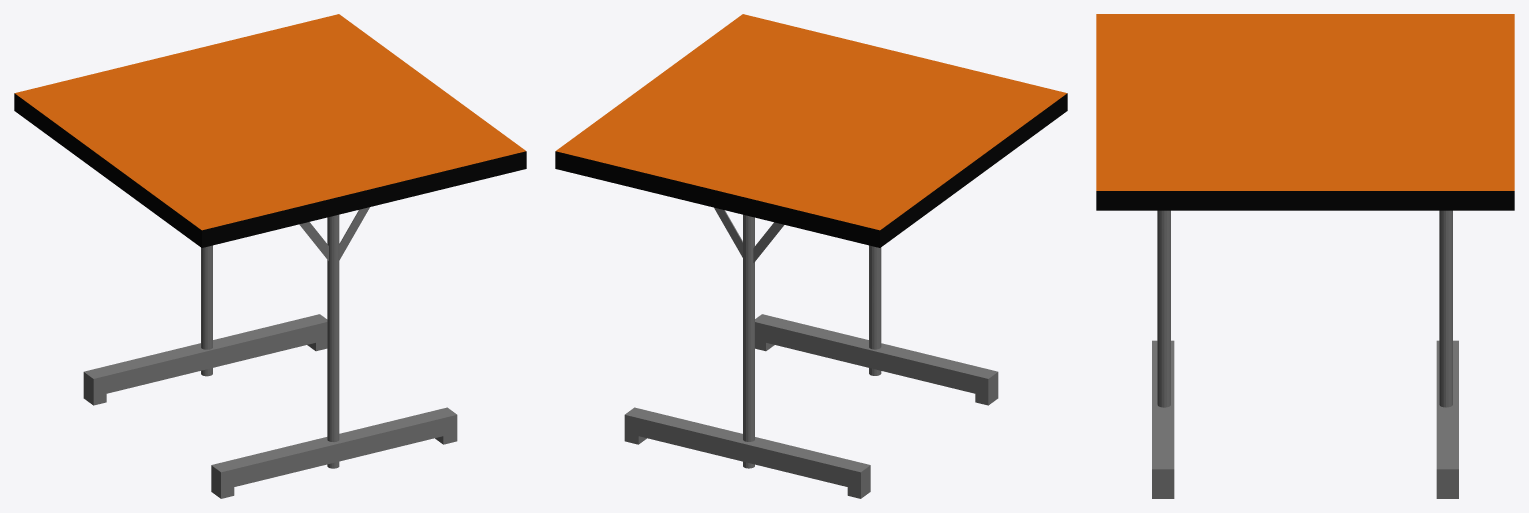
Rendered from TableMeshed 1.fbx.
3 views of the same model, side by side, from view 1: azimuth 30°, elevation 25°; view 2: azimuth 150°, elevation 25°; view 3: azimuth 270°, elevation 25° (orthographic). The views are drawn at different scales.
Parts seen in each view (by area): view 1: table, table_cell.005, leg, table_cell.001, leg.001, table_cell.002, leg.001_cell.004, leg.001_cell.010, leg.001_cell.023, leg.001_cell, table_cell; view 2: table, table_cell.005, table_cell.001, leg.001, table_cell.002, leg, leg_cell.038, leg.001_cell.004, leg_cell.007, table_cell, leg.001_cell, leg_cell.012 (+4 smaller); view 3: table, table_cell.005, table_cell.003, table_cell.001, table_cell.002, leg, leg.001, table_cell.004, leg.001_cell.016, leg.001_cell, leg.001_cell.028.
Part boxes in pixels (x1,y1,x2,y2): table: (14,14,526,247); table_cell.005: (133,14,421,122); leg: (211,207,457,498); table_cell.001: (52,101,232,193); leg.001: (84,248,327,405); table_cell.002: (15,64,163,120); leg.001_cell.004: (83,358,151,402); leg.001_cell.010: (231,327,280,359); leg.001_cell.023: (138,345,193,382); leg.001_cell: (266,319,327,350); table_cell: (137,190,364,247); table: (555,14,1066,247); table_cell.005: (555,90,830,219); table_cell.001: (822,135,1008,206); leg.001: (624,207,870,498); table_cell.002: (762,171,917,246); leg: (755,245,997,405); leg_cell.038: (902,352,961,385); leg.001_cell.004: (806,451,870,498); leg_cell.007: (836,344,904,376); table_cell: (1002,93,1067,158); leg.001_cell: (634,409,683,445); leg_cell.012: (869,277,881,375); table: (1096,14,1514,210); table_cell.005: (1325,70,1514,210); table_cell.003: (1171,87,1329,210); table_cell.001: (1226,14,1430,86); table_cell.002: (1412,14,1514,78); leg: (1152,210,1174,498); leg.001: (1436,210,1458,498); table_cell.004: (1096,191,1198,210); leg.001_cell.016: (1439,314,1452,385); leg.001_cell: (1436,439,1458,464); leg.001_cell.028: (1439,261,1445,334).
Size of the model in its own units: 357 by 313 by 357.
